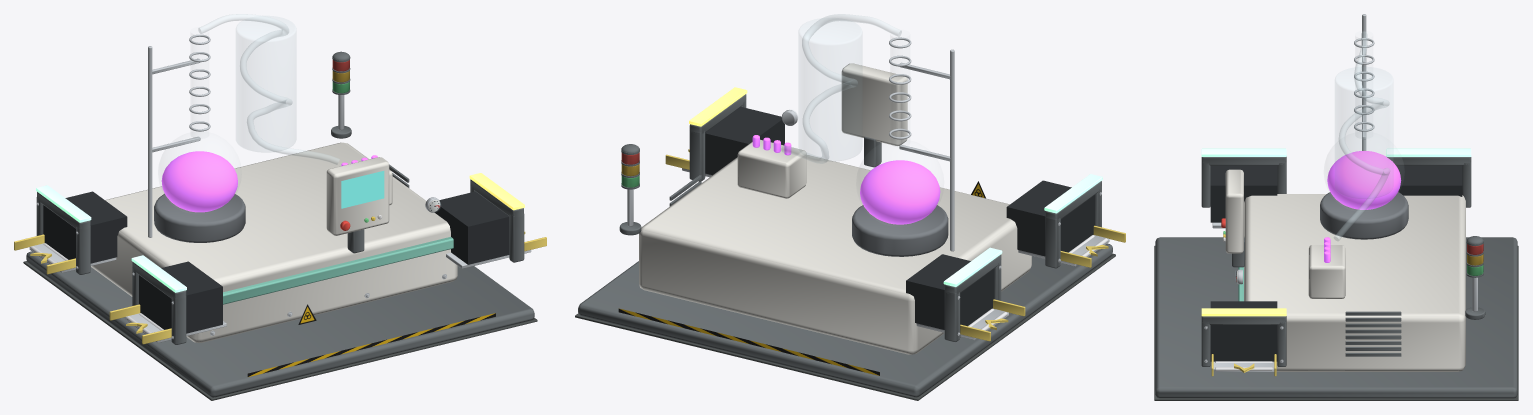
Rendered from destilador.glb.
3 views of the same model, side by side, from view 1: azimuth 30°, elevation 25°; view 2: azimuth 150°, elevation 25°; view 3: azimuth 270°, elevation 25° (orthographic). The views are drawn at different scales.
Visible parts, largest first — view 1: armario, zocalo, refrigerante, boca_salida_hueco, matraz_liquido, boca_entrada1_hueco, boca_entrada0_hueco, manta, cuadro, armario_franja, serpentin, zocalo_goma (+12 smaller); view 2: armario, zocalo, refrigerante, cuadro, matraz_liquido, boca_entrada1_hueco, boca_entrada0_hueco, manta, colector, boca_salida_hueco, serpentin, zocalo_goma (+12 smaller); view 3: armario, zocalo, refrigerante, matraz_liquido, boca_salida_hueco, manta, boca_entrada1_hueco, boca_entrada0_hueco, colector, serpentin, zocalo_goma, cuadro (+11 smaller).
Boxes of the visible parts, x1,y1,x2,y2 form: armario: [91, 142, 457, 342]; zocalo: [26, 251, 534, 397]; refrigerante: [236, 16, 295, 151]; boca_salida_hueco: [434, 191, 509, 264]; matraz_liquido: [161, 151, 237, 212]; boca_entrada1_hueco: [139, 261, 222, 333]; boca_entrada0_hueco: [43, 191, 127, 263]; manta: [154, 193, 245, 242]; cuadro: [326, 157, 389, 235]; armario_franja: [223, 237, 453, 304]; serpentin: [198, 14, 339, 164]; zocalo_goma: [23, 261, 537, 400]; armario: [639, 155, 1031, 354]; zocalo: [578, 243, 1112, 397]; refrigerante: [799, 19, 861, 160]; cuadro: [841, 63, 907, 145]; matraz_liquido: [860, 160, 940, 224]; boca_entrada1_hueco: [1006, 180, 1095, 256]; boca_entrada0_hueco: [906, 254, 994, 329]; manta: [852, 205, 948, 256]; colector: [737, 139, 806, 198]; boca_salida_hueco: [705, 107, 784, 175]; serpentin: [781, 14, 901, 163]; zocalo_goma: [575, 253, 1115, 400]; armario: [1244, 194, 1465, 371]; zocalo: [1155, 237, 1517, 398]; refrigerante: [1335, 67, 1392, 198]; matraz_liquido: [1327, 151, 1401, 209]; boca_salida_hueco: [1210, 301, 1277, 361]; manta: [1320, 192, 1408, 239]; boca_entrada1_hueco: [1210, 165, 1277, 222]; boca_entrada0_hueco: [1396, 165, 1462, 196]; colector: [1308, 245, 1345, 298]; serpentin: [1334, 32, 1389, 240]; zocalo_goma: [1154, 246, 1518, 400]; cuadro: [1225, 169, 1243, 253].
Size of the model in its own units: 2.44 by 1.63 by 1.97.
Materials: 30 (2 with a texture image).
